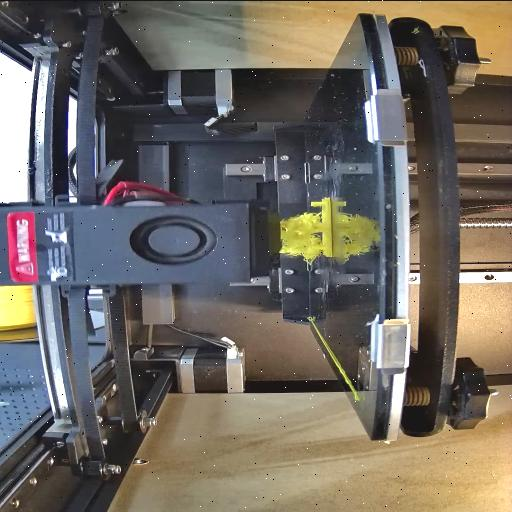spaghetti: (276, 211, 320, 261)
